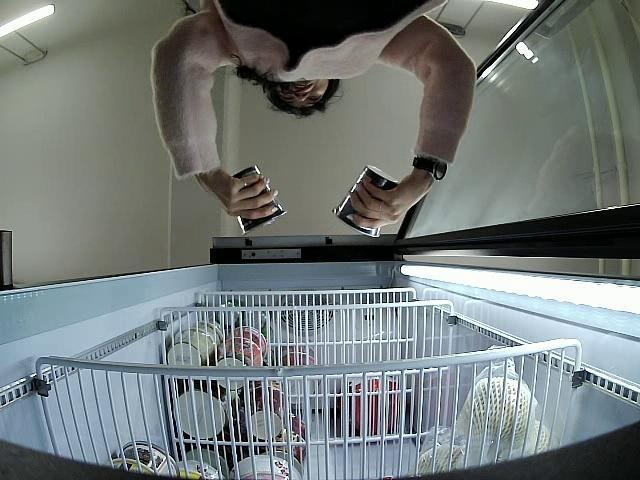08_buldak_S: (334, 162, 401, 238), (230, 164, 286, 236)
